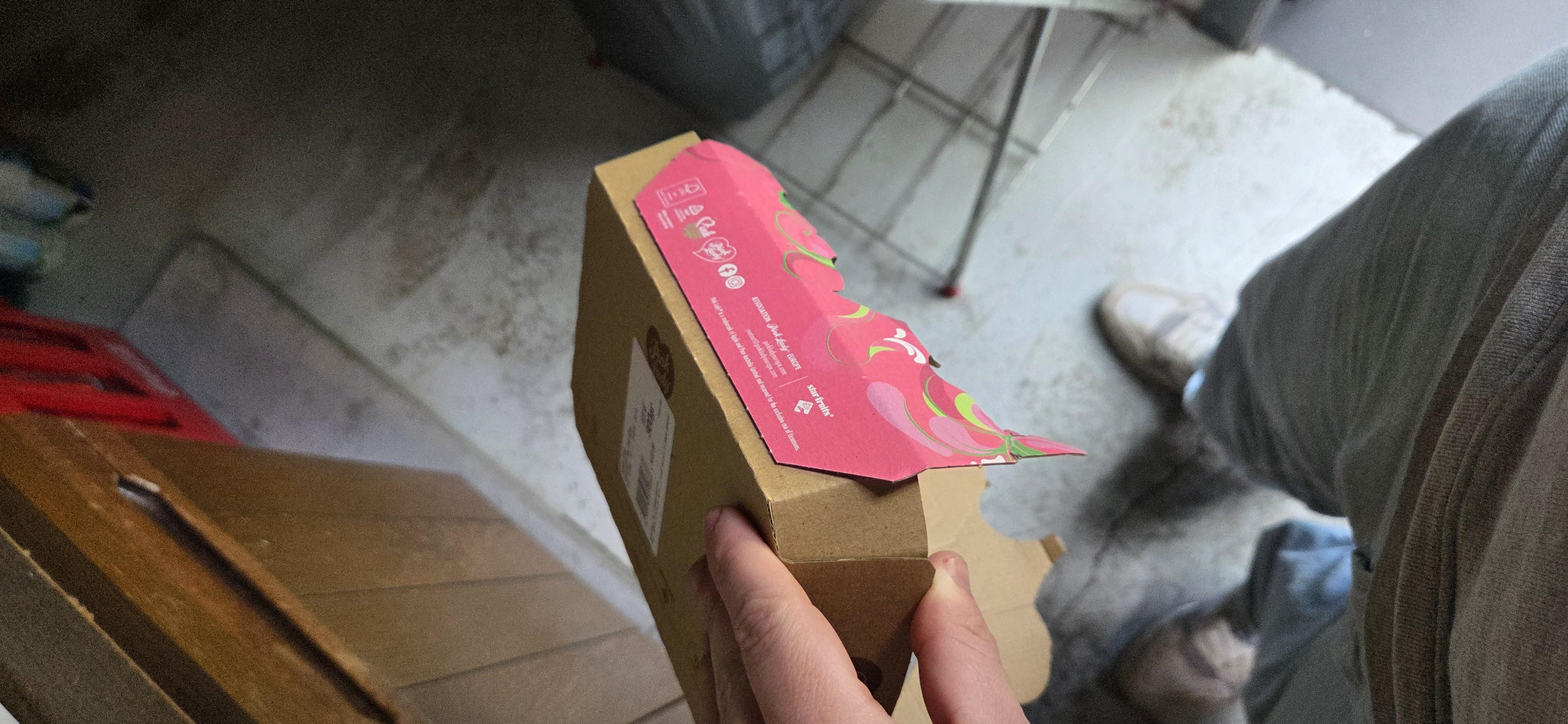Cardboard: (0, 255, 1298, 493)
